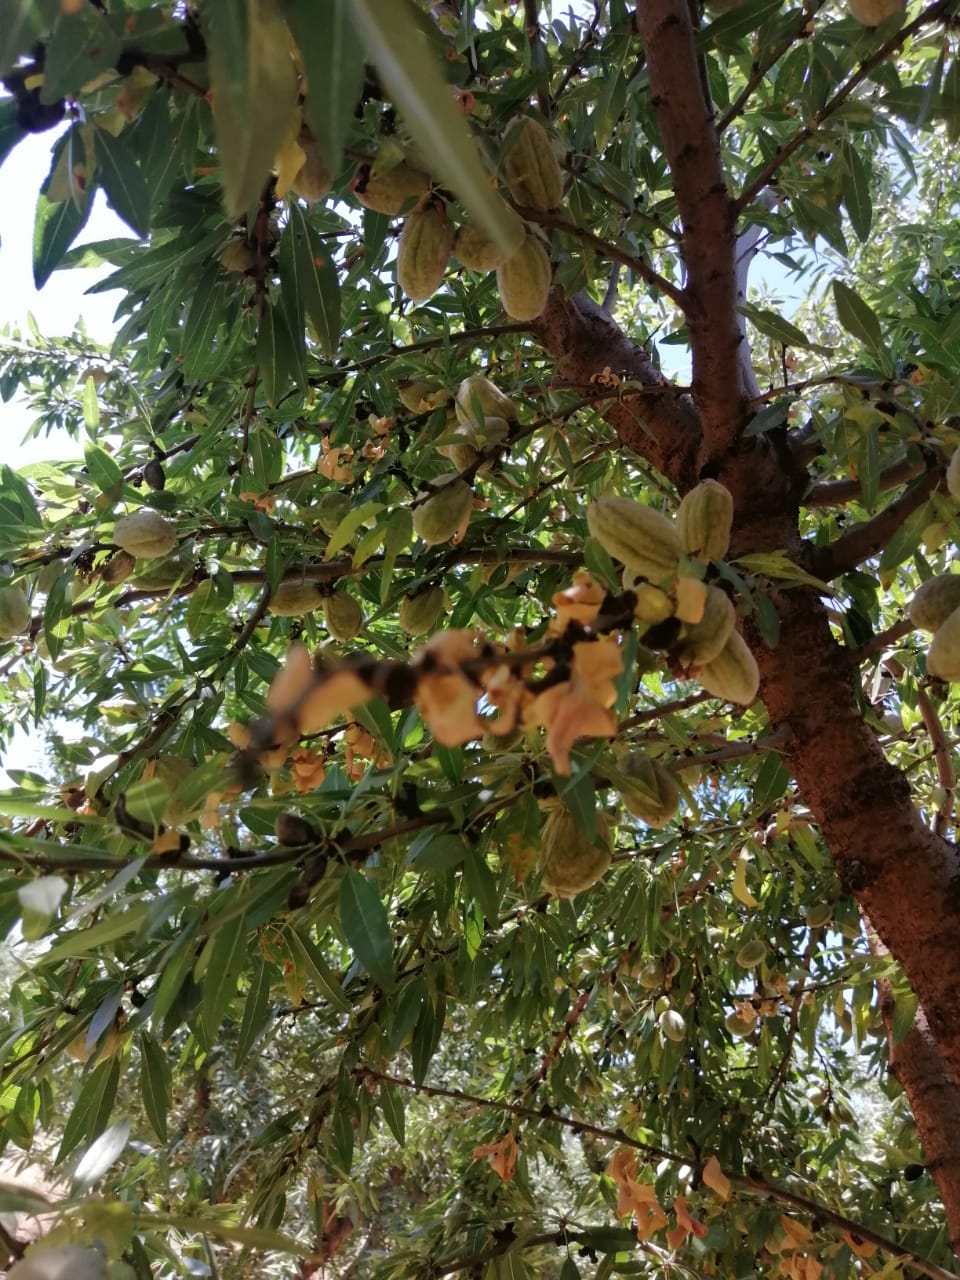chancre fusicocum: (349, 1064, 960, 1280), (249, 565, 655, 779), (242, 426, 392, 514)
